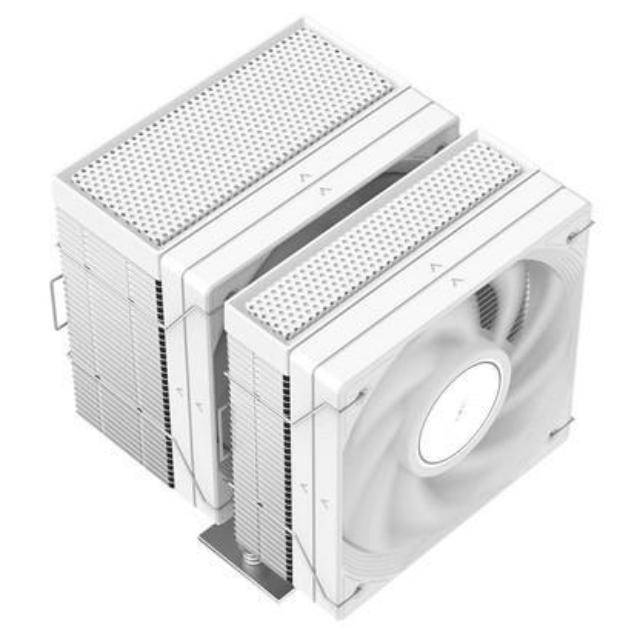CPU_Fan: (36, 9, 614, 628)
